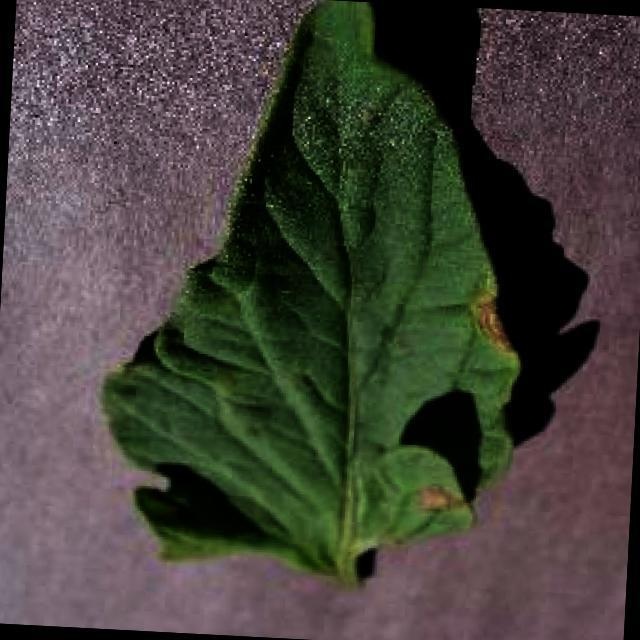Tomato Early blight leaf: (93, 0, 541, 587)
